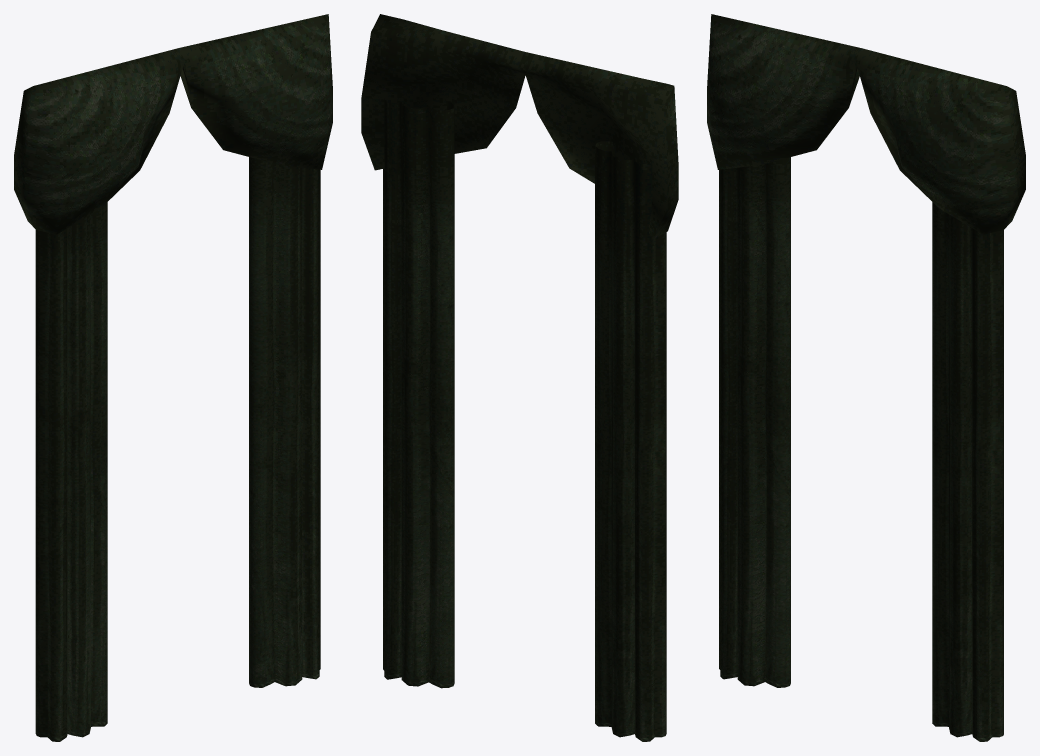
File: curtain08_long.dae
3 renders of one model, left to right at view 1: azimuth 30°, elevation 25°; view 2: azimuth 150°, elevation 25°; view 3: azimuth 330°, elevation 25°, orthographic.
Parts seen in each view (by area): view 1: polySurface191; view 2: polySurface191; view 3: polySurface191.
Part boxes in pixels (x1,y1,x2,y2): polySurface191: (14, 14, 332, 741); polySurface191: (361, 14, 678, 741); polySurface191: (707, 14, 1025, 741).
Size of what is drawn, in the model's own units: 2.5 by 5.08 by 0.4673.
